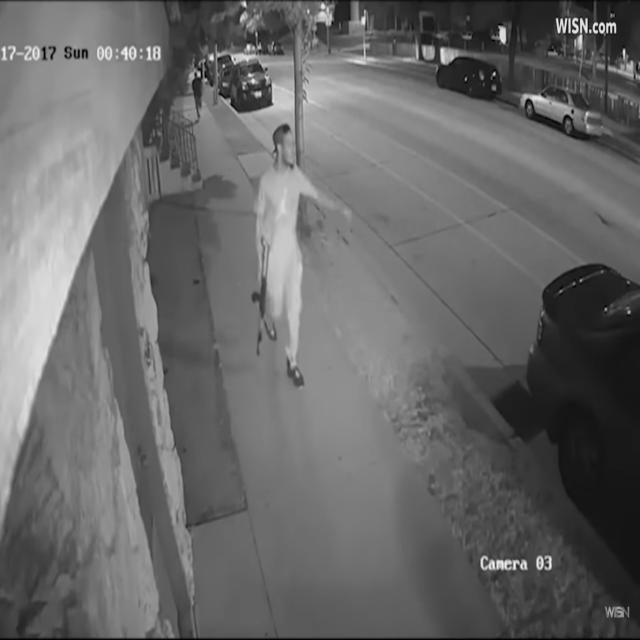Rifle: (248, 229, 274, 364)
